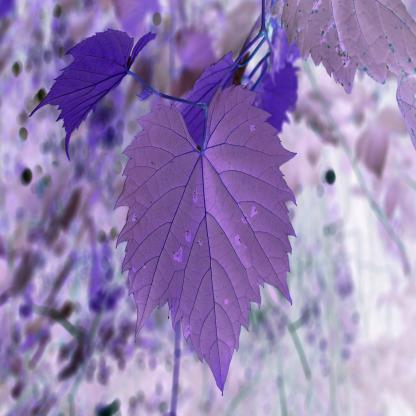grape leaf: (107, 86, 309, 390), (28, 27, 159, 164)
